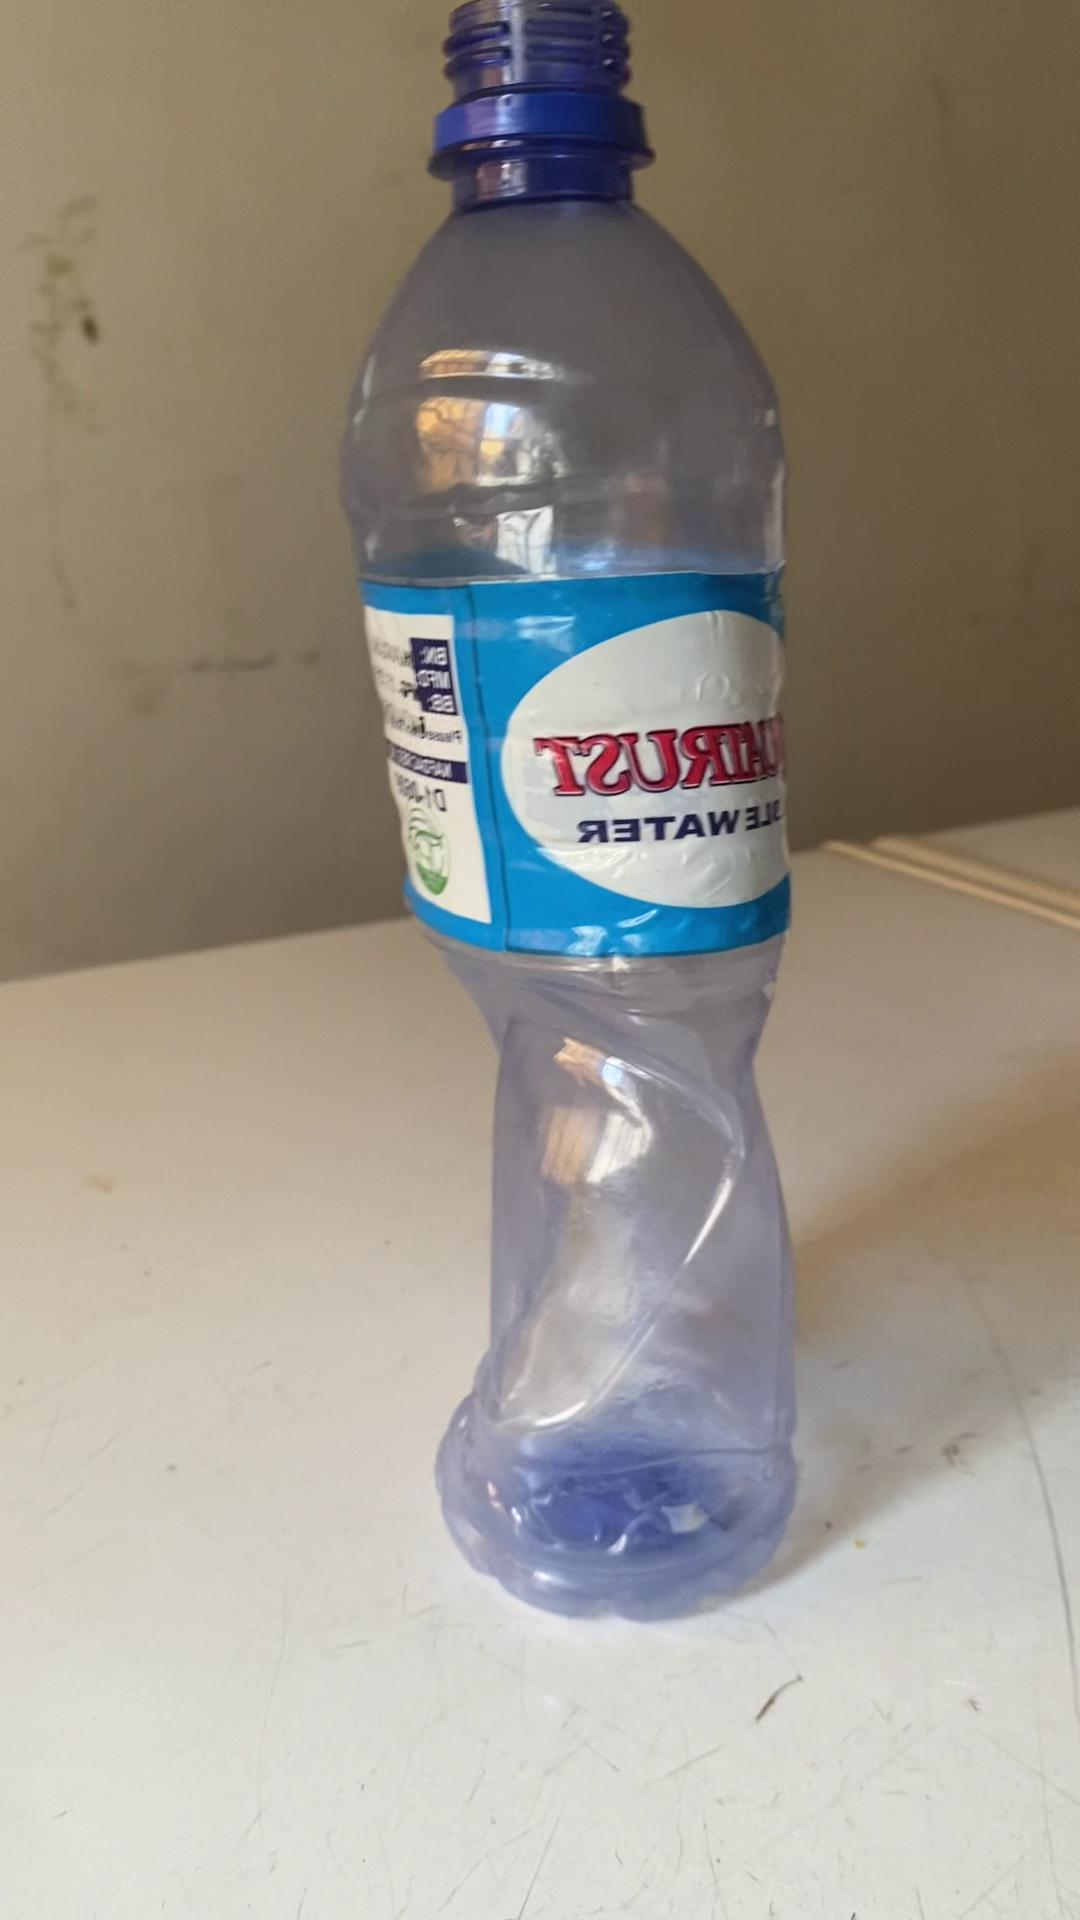crumbled: (339, 0, 812, 1617)
label: (363, 560, 782, 939)
no-cap: (434, 0, 646, 160)
